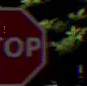Stop: (0, 6, 50, 84)
